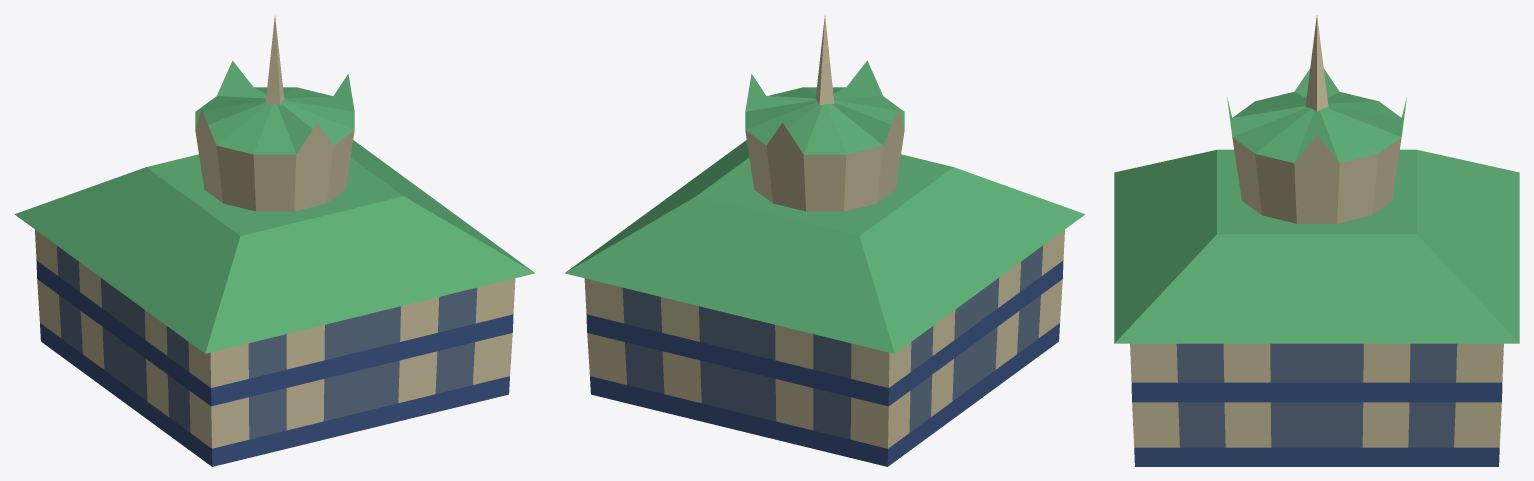
File: MetroStation.fbx
3 renders of one model, left to right at view 1: azimuth 30°, elevation 25°; view 2: azimuth 150°, elevation 25°; view 3: azimuth 270°, elevation 25°, orthographic. The views are drawn at different scales.
Visible parts, largest first — view 1: Roof.001, Limestone, Mat Blue, Clock Base, Upper Base, Lower Base, Clock Roof, Top.001; view 2: Roof.001, Limestone, Mat Blue, Clock Base, Upper Base, Lower Base, Clock Roof, Top.001; view 3: Roof.001, Limestone, Mat Blue, Clock Base, Clock Roof, Upper Base, Lower Base, Top.001.
Part boxes in pixels (x1,y1,x2,y2): Roof.001: [14, 140, 534, 353]; Limestone: [35, 229, 515, 448]; Mat Blue: [57, 246, 477, 439]; Clock Base: [195, 110, 354, 211]; Upper Base: [36, 260, 513, 406]; Lower Base: [40, 323, 509, 466]; Clock Roof: [195, 60, 354, 154]; Top.001: [265, 16, 284, 105]; Roof.001: [565, 140, 1085, 353]; Limestone: [584, 229, 1064, 448]; Mat Blue: [622, 246, 1042, 439]; Clock Base: [745, 110, 904, 211]; Upper Base: [586, 260, 1063, 406]; Lower Base: [590, 323, 1059, 466]; Clock Roof: [745, 60, 904, 154]; Top.001: [815, 16, 834, 105]; Roof.001: [1114, 149, 1519, 343]; Limestone: [1130, 343, 1503, 447]; Mat Blue: [1176, 343, 1457, 447]; Clock Base: [1232, 134, 1401, 223]; Clock Roof: [1227, 68, 1406, 162]; Upper Base: [1131, 382, 1502, 402]; Lower Base: [1134, 447, 1499, 466]; Top.001: [1305, 15, 1328, 111].
Size of the model in its own units: 5568 by 5700 by 5568.
